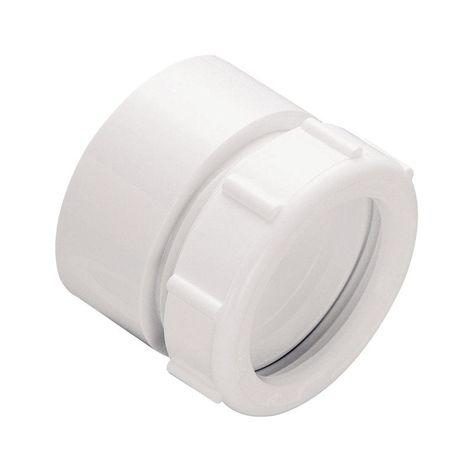PP: (55, 53, 420, 416)
